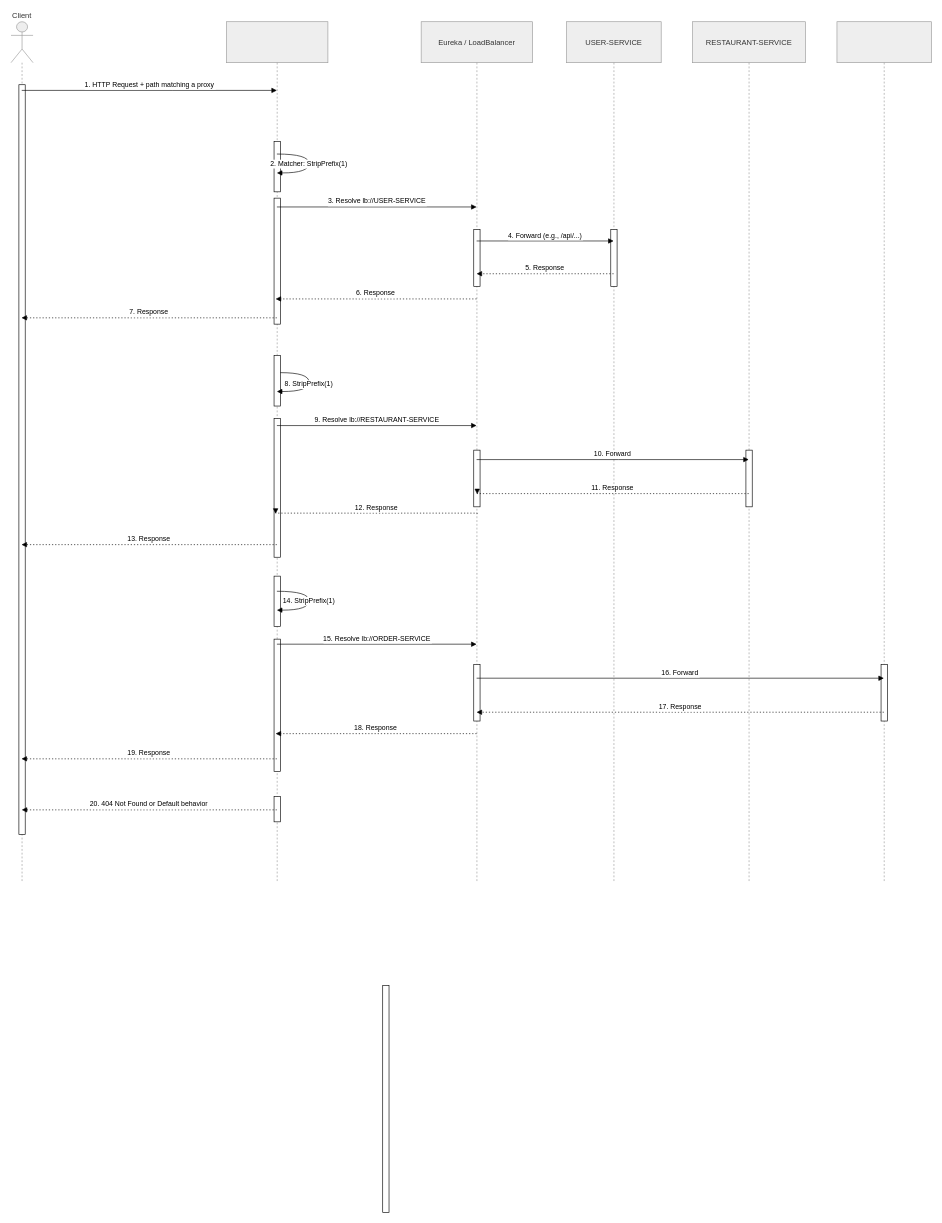
The diagram is 942 pixels wide and 1223 high, and some of its shapes have lost their labels. The box of each missing label's shape, as (x1, y1, x2, y2) in pixels:
API Gateway (:8085): (226, 21, 328, 882)
ORDER-SERVICE: (836, 21, 931, 882)
